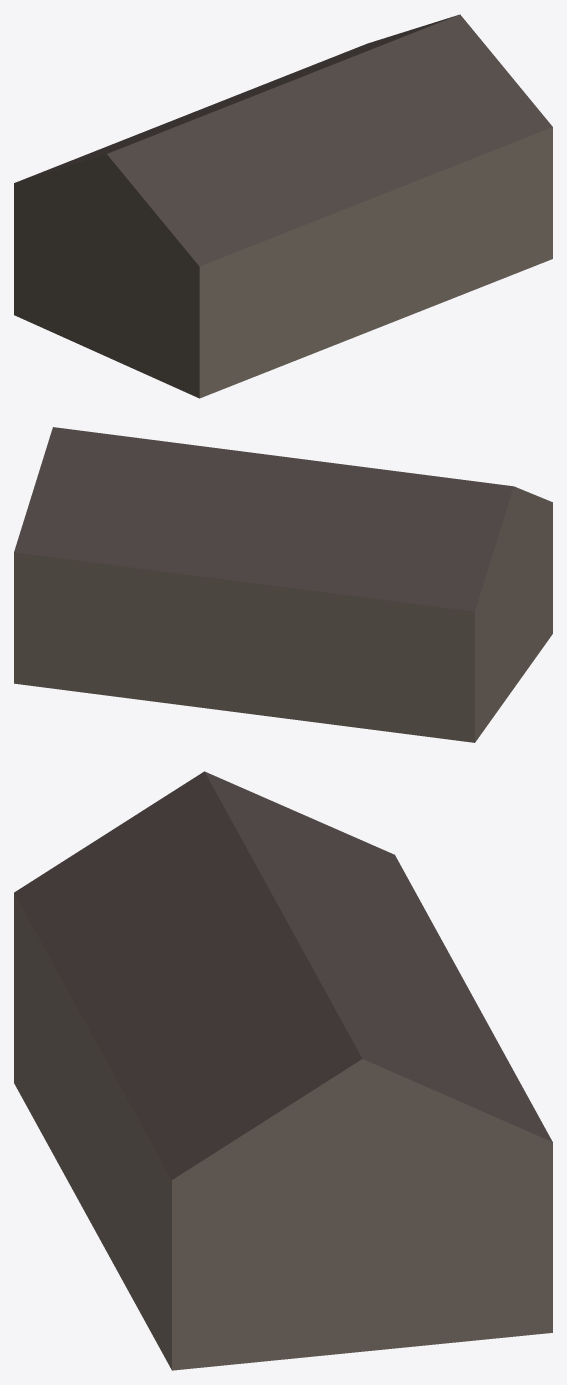
3 views of the same model, one above another, from view 1: azimuth 30°, elevation 25°; view 2: azimuth 150°, elevation 25°; view 3: azimuth 270°, elevation 25° (orthographic). The views are drawn at different scales.
Parts seen in each view (by area): view 1: HP-w859457330; view 2: HP-w859457330; view 3: HP-w859457330.
Boxes of the visible parts, x1=… form: HP-w859457330: x1=14, y1=14, x2=552, y2=398; HP-w859457330: x1=14, y1=427, x2=552, y2=742; HP-w859457330: x1=14, y1=771, x2=552, y2=1370.
Bounding box in the file's own units: 21.98 × 9.23 × 15.39.
